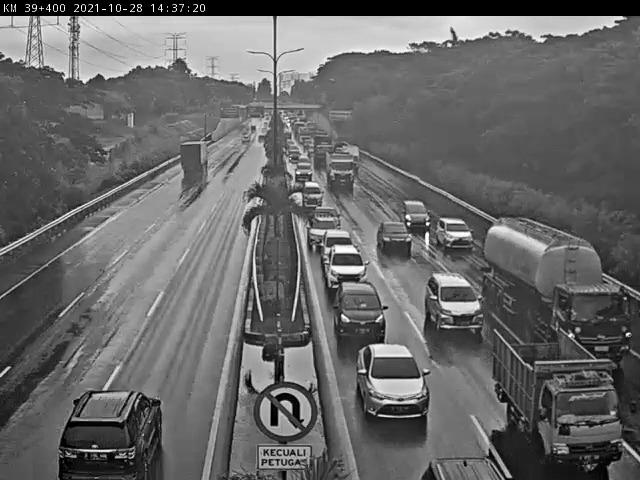big truck: (485, 220, 631, 361), (174, 140, 210, 174), (326, 153, 354, 190)
car: (59, 387, 168, 480), (354, 343, 434, 420), (421, 271, 486, 337), (332, 280, 390, 338), (322, 242, 373, 295), (376, 219, 413, 256), (435, 218, 474, 253), (319, 228, 354, 260), (304, 213, 337, 243), (399, 197, 428, 228), (315, 205, 344, 231), (301, 181, 325, 207), (292, 158, 315, 178)
small truck: (493, 325, 626, 467)
